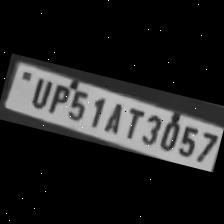0: (156, 114, 182, 151)
1: (84, 92, 108, 128)
3: (136, 108, 162, 145)
5: (61, 84, 91, 122), (172, 120, 200, 158)
7: (190, 125, 218, 166)
A: (98, 95, 126, 135)
P: (44, 78, 70, 115)
T: (118, 101, 145, 141)
U: (25, 72, 53, 108)
